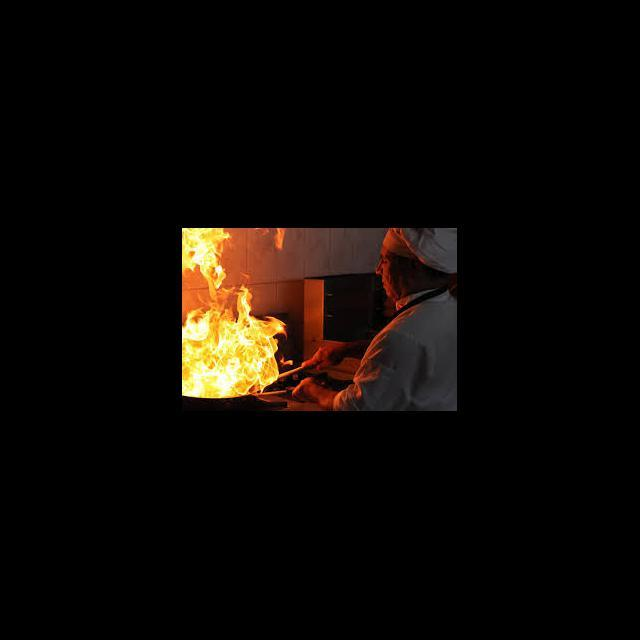Fire: (182, 228, 284, 400)
